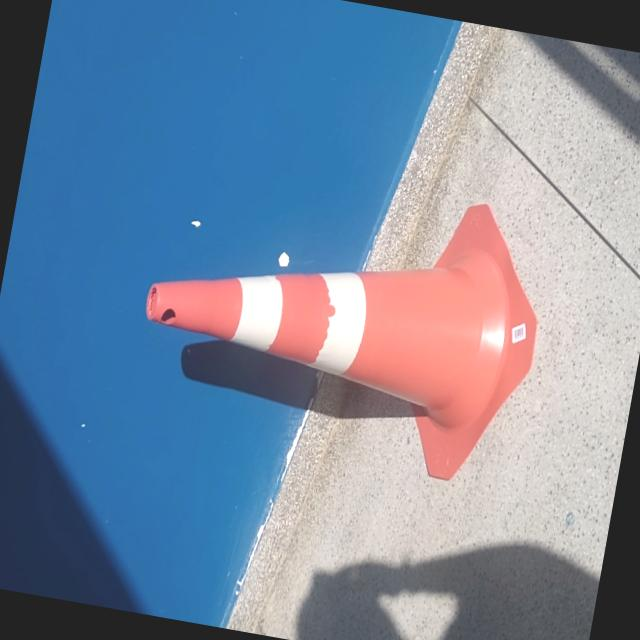cone: (108, 96, 576, 524)
